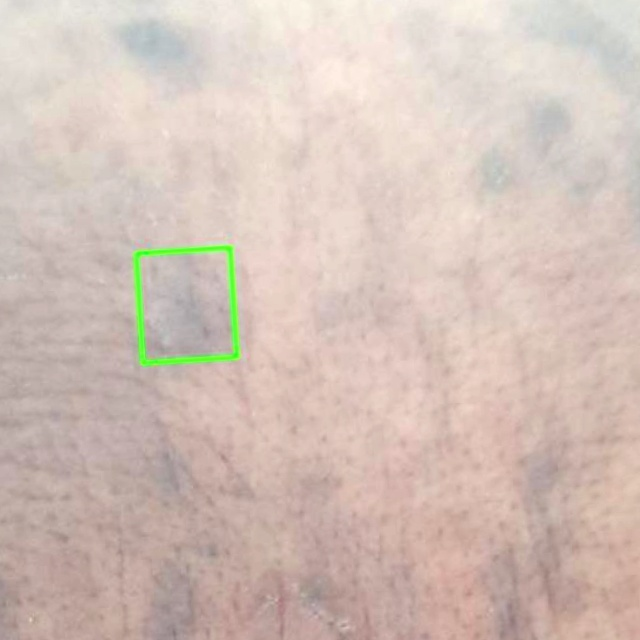Tinea Corporis: (136, 247, 237, 363)
